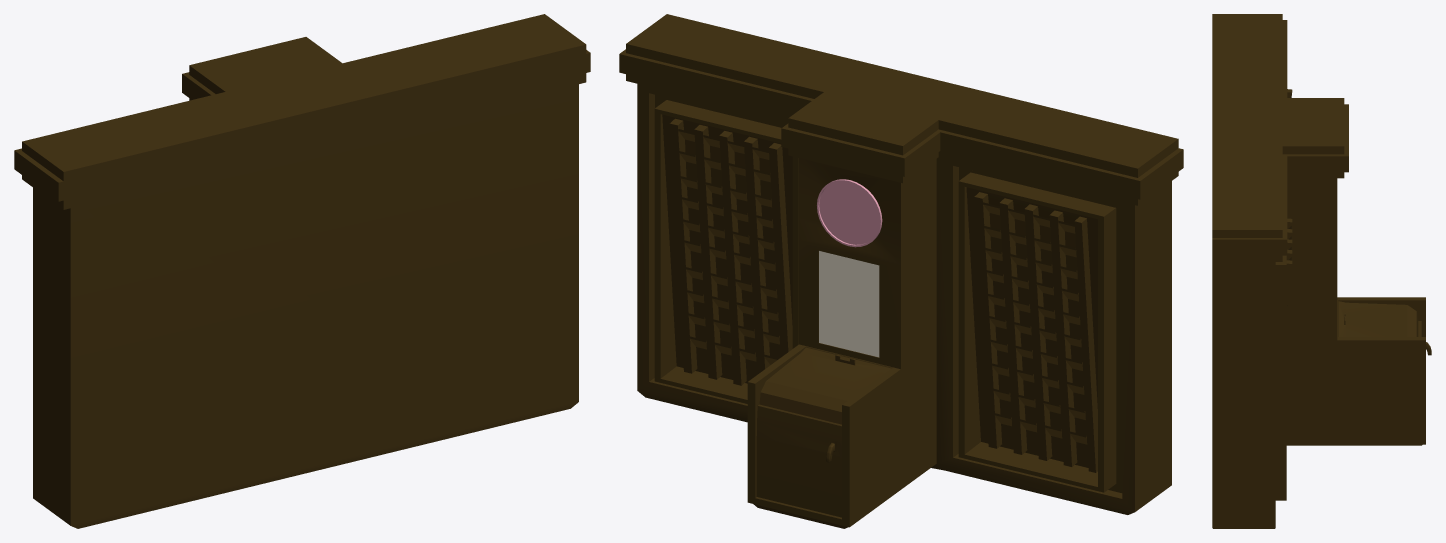
Rendered from OC_ClockingMaching.fbx.
3 renders of one model, left to right at view 1: azimuth 30°, elevation 25°; view 2: azimuth 150°, elevation 25°; view 3: azimuth 270°, elevation 25°, orthographic. The views are drawn at different scales.
Parts seen in each view (by area): view 1: PrincipalStructure; view 2: PrincipalStructure, Crystal, Clock; view 3: PrincipalStructure.
Part boxes in pixels (<box>): PrincipalStructure: <box>14,14,590,528</box>; PrincipalStructure: <box>619,14,1183,528</box>; Crystal: <box>819,251,879,357</box>; Clock: <box>817,179,882,247</box>; PrincipalStructure: <box>1212,14,1431,528</box>.
Size of the model in its own units: 25297 by 16393 by 10676.
